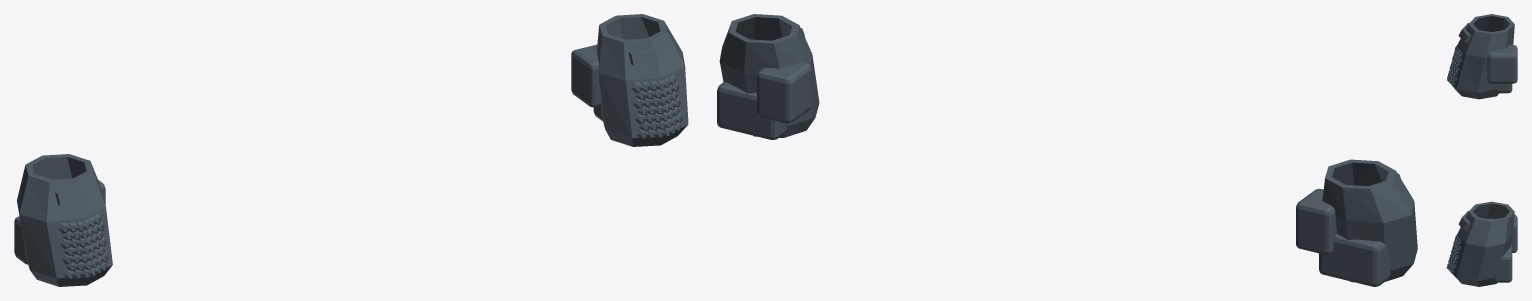
Rendered from chain_hands-male.glb.
3 renders of one model, left to right at view 1: azimuth 30°, elevation 25°; view 2: azimuth 150°, elevation 25°; view 3: azimuth 270°, elevation 25°, orthographic. The views are drawn at different scales.
Parts seen in each view (by area): view 1: Block hand armor -1, Block hand armor 1, chain woven coverage on Block hand armor 1, chain woven coverage on Block hand armor -1, Block thumb armor 1, Glove turned wrist seam 1, Glove turned wrist seam -1; view 2: Block hand armor -1, Block hand armor 1, Block thumb armor 1, Block hand curl armor -1, Block hand curl armor 1, Block thumb armor -1; view 3: Block hand armor 1, Block hand armor -1, Block thumb armor -1, Block hand curl armor 1, chain woven coverage on Block hand armor -1, chain woven coverage on Block hand armor 1, Block thumb armor 1, Block hand curl armor -1, Glove turned wrist seam -1, Glove turned wrist seam 1.
Part boxes in pixels (box(x1,y1,x2,y2)): Block hand armor -1: box(17, 154, 112, 286); Block hand armor 1: box(596, 14, 688, 146); chain woven coverage on Block hand armor 1: box(631, 74, 682, 138); chain woven coverage on Block hand armor -1: box(58, 213, 108, 278); Block thumb armor 1: box(571, 44, 601, 107); Glove turned wrist seam 1: box(628, 43, 673, 65); Glove turned wrist seam -1: box(55, 182, 99, 206); Block hand armor -1: box(1322, 159, 1417, 282); Block hand armor 1: box(719, 14, 819, 137); Block thumb armor 1: box(757, 62, 811, 123); Block hand curl armor -1: box(1319, 234, 1390, 286); Block hand curl armor 1: box(717, 82, 787, 139); Block thumb armor -1: box(1296, 188, 1337, 254); Block hand armor 1: box(1452, 201, 1514, 286); Block hand armor -1: box(1448, 14, 1514, 99); Block thumb armor -1: box(1487, 45, 1517, 83); Block hand curl armor 1: box(1493, 244, 1512, 282); chain woven coverage on Block hand armor -1: box(1447, 45, 1462, 86); chain woven coverage on Block hand armor 1: box(1446, 234, 1461, 274); Block thumb armor 1: box(1488, 215, 1517, 252); Block hand curl armor -1: box(1496, 83, 1512, 93); Glove turned wrist seam -1: box(1458, 23, 1471, 42); Glove turned wrist seam 1: box(1458, 210, 1470, 230).
Bounding box in the file's own units: 3.72 × 0.52 × 0.5159.
